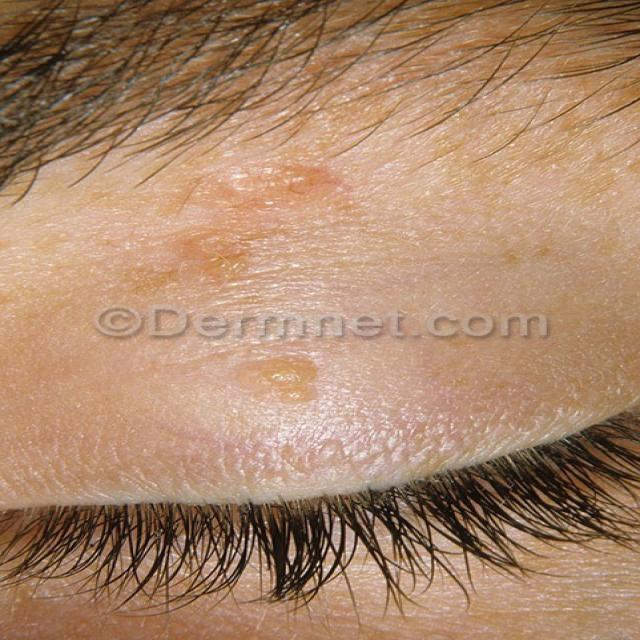Eczema: (91, 156, 349, 406)
